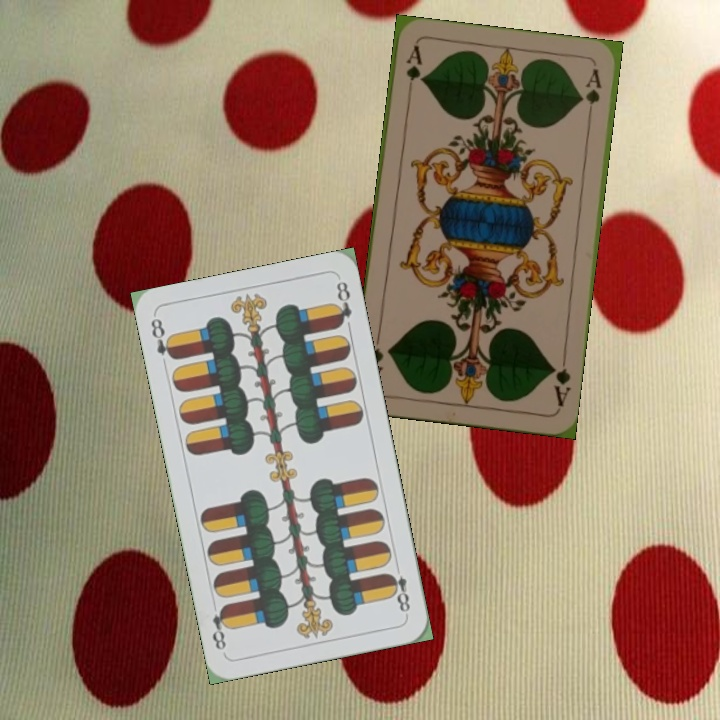E8: (384, 559, 413, 618), (146, 314, 178, 363)
GA: (547, 352, 573, 409), (402, 41, 425, 100)
